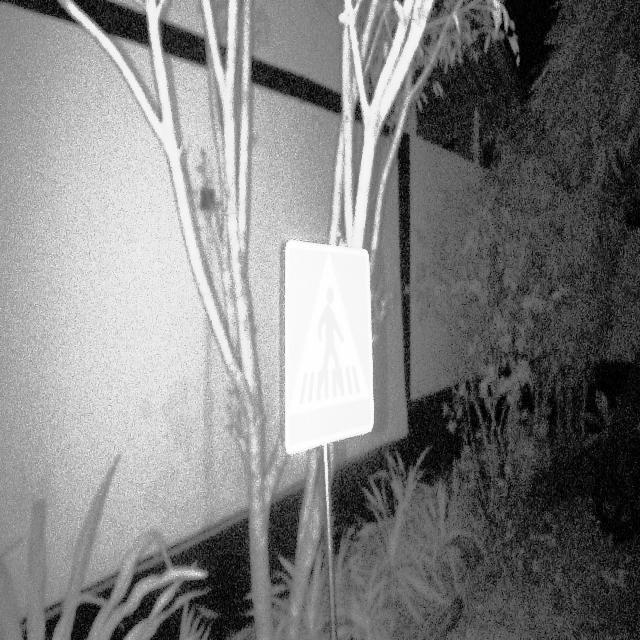Sign: (284, 236, 376, 456)
Tree: (145, 0, 279, 640)
